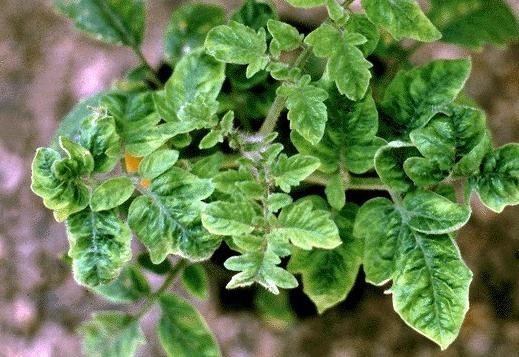Tomato leaf yellow virus: (365, 189, 478, 357), (112, 169, 217, 274), (43, 198, 139, 296), (378, 56, 478, 149), (303, 18, 375, 107), (157, 45, 225, 120), (265, 197, 341, 262), (198, 20, 276, 79), (192, 191, 267, 245)
